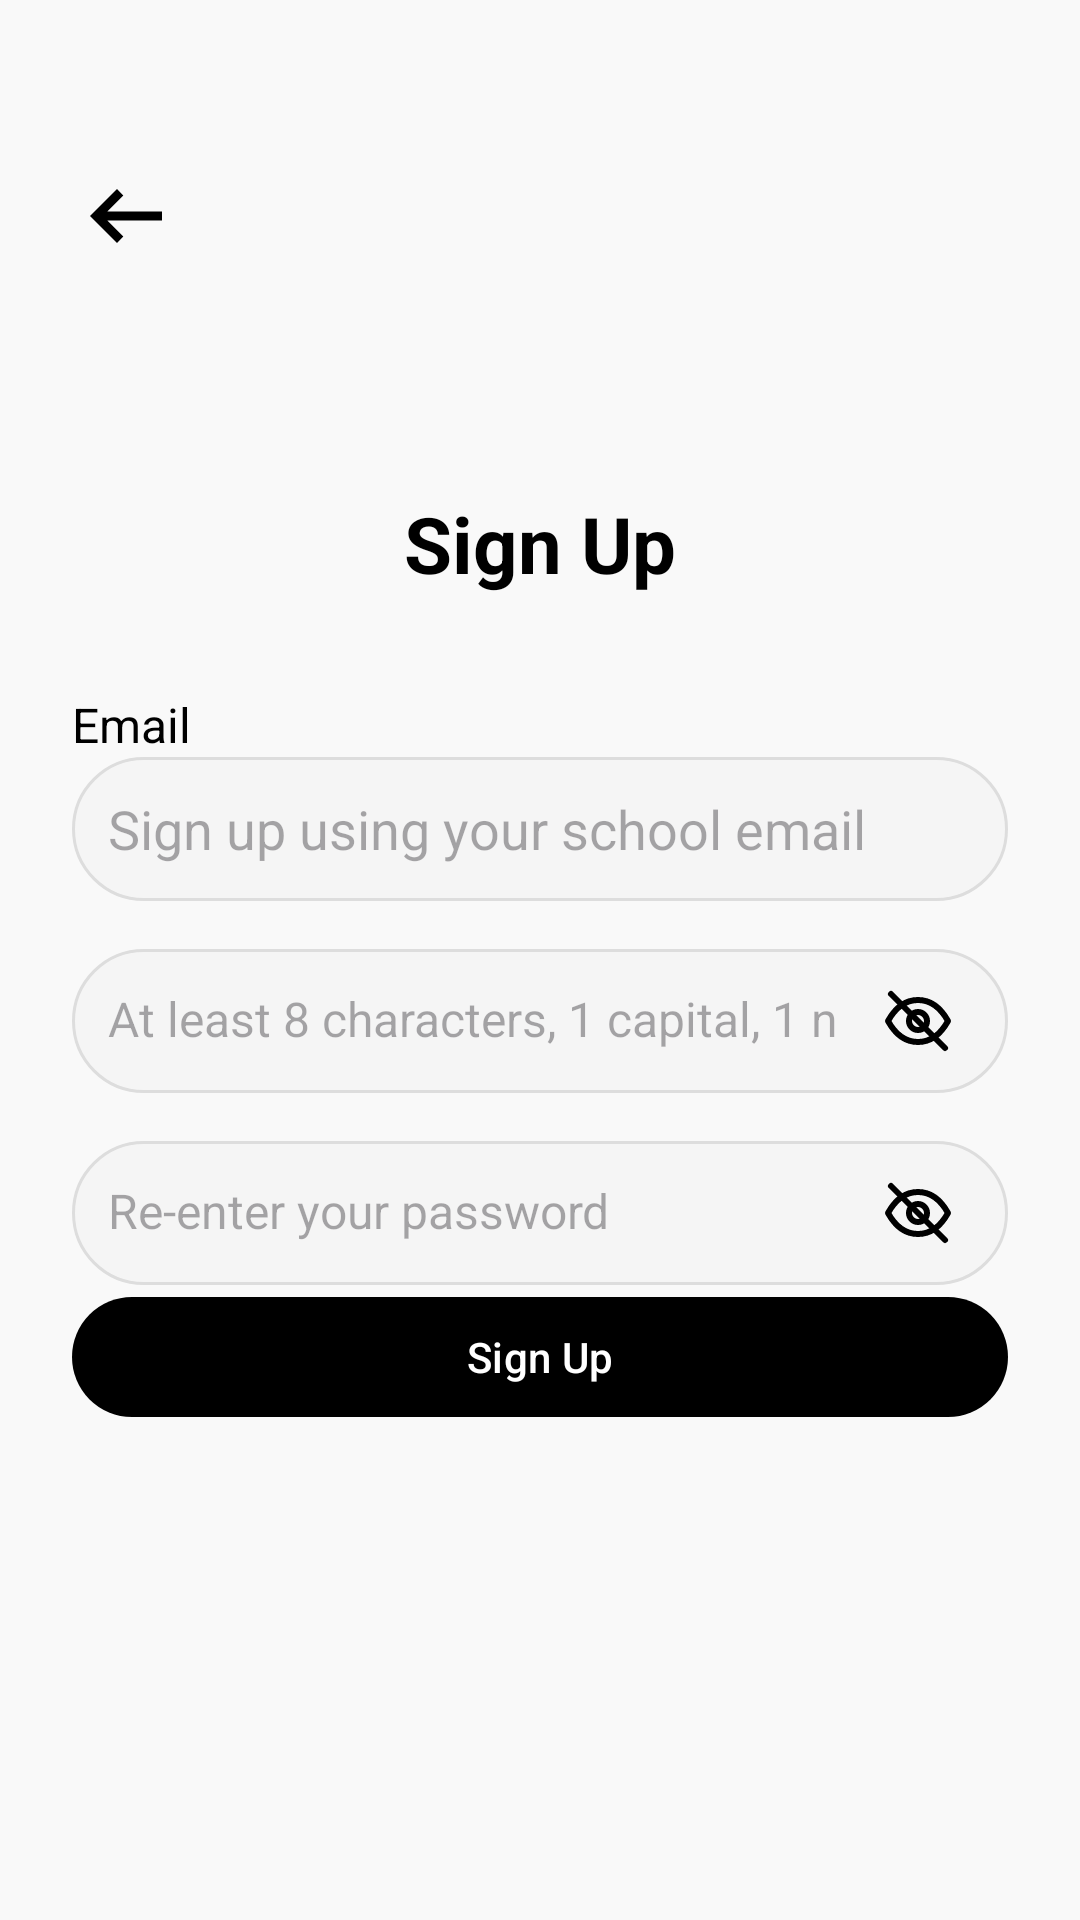

Point at icon controls on the screen. Image size 1080*1920, points as (x=x, y=y).
Back: (x=126, y=216)
Show password: (x=918, y=1020), (x=918, y=1212)
